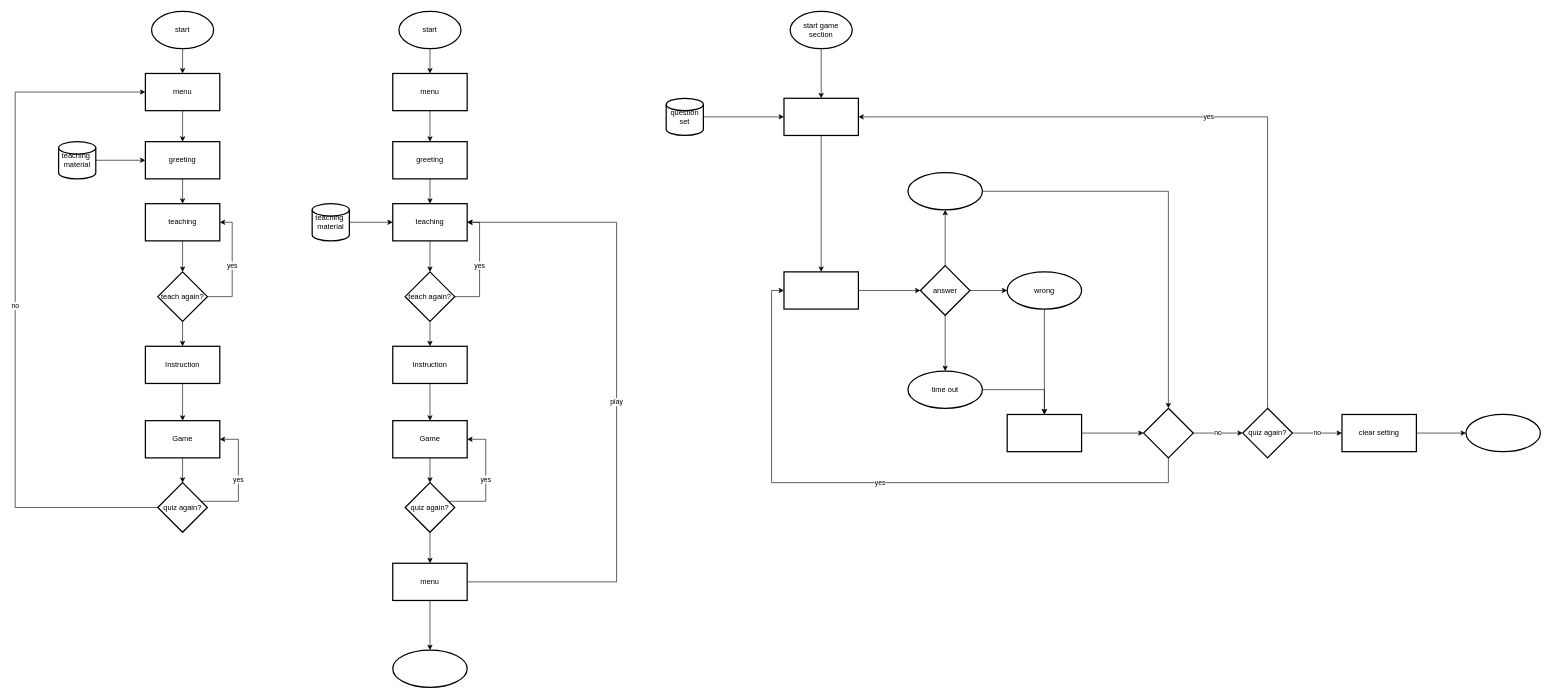
This 1552x698 diagram has some shape labels left out. Each missing label, with the centre of its shape:
checking next question: point (1168, 432)
correct: point (945, 191)
end game section: point (1503, 433)
explanation: point (1044, 433)
gaming: point (821, 290)
preparation: point (821, 116)
quit: point (429, 668)
